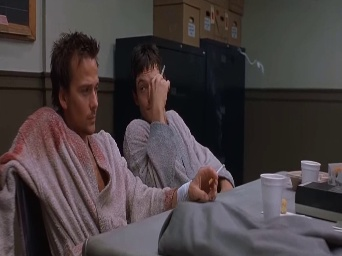smoke: (214, 162, 224, 179), (160, 62, 165, 78)
